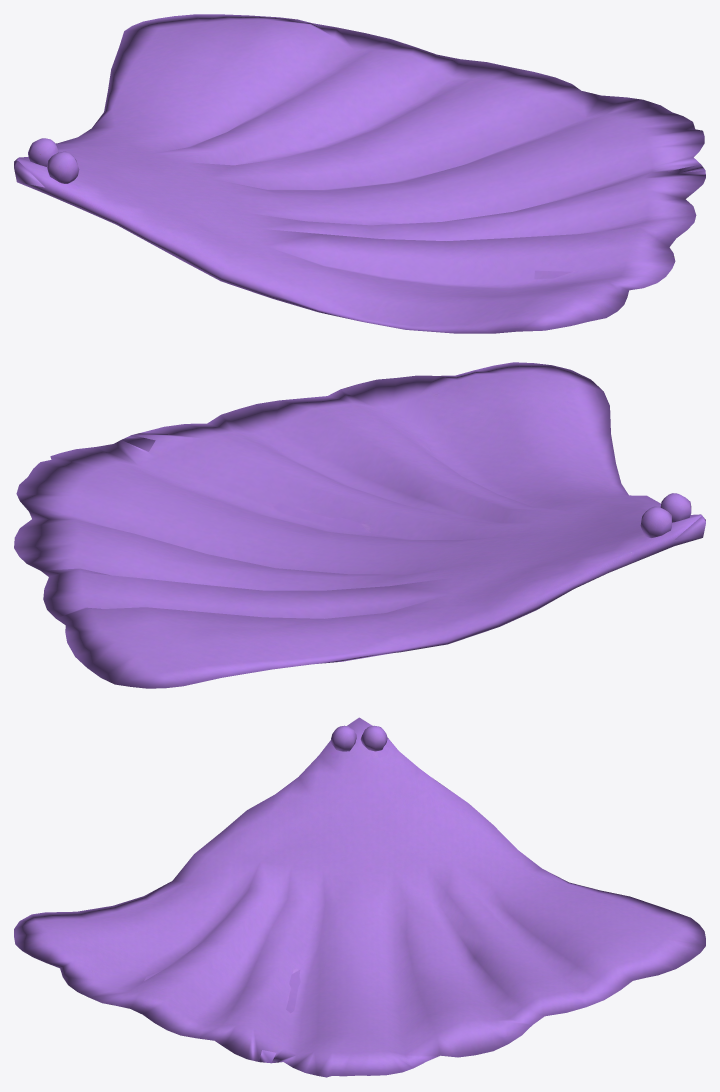
File: skate.glb
3 views of the same model, one above another, from view 1: azimuth 30°, elevation 25°; view 2: azimuth 150°, elevation 25°; view 3: azimuth 270°, elevation 25° (orthographic). The views are drawn at different scales.
Visible parts, largest first — view 1: Stingray; view 2: Stingray; view 3: Stingray.
Boxes of the visible parts, box(x1,y1,x2,y2) form: Stingray: box(14, 14, 705, 333); Stingray: box(14, 362, 705, 688); Stingray: box(14, 717, 705, 1077).
Size of the model in its own units: 9.83 by 2.09 by 10.8.
Materials: 1 (1 with a texture image).
